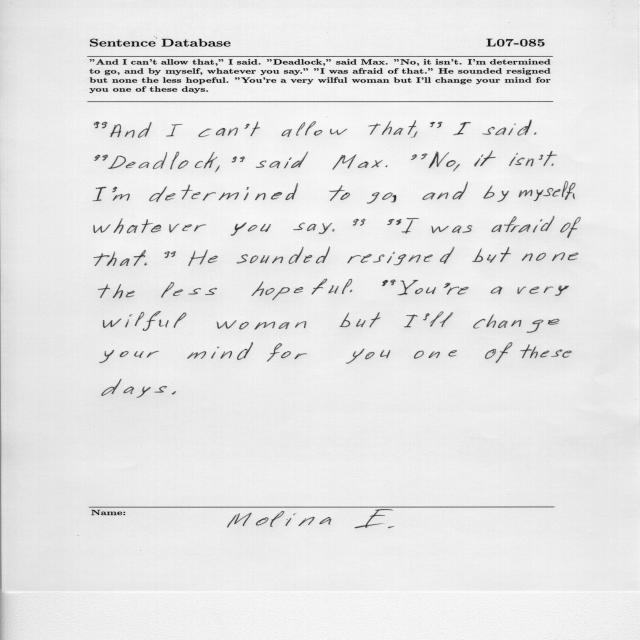word: (149, 183, 298, 202), (252, 279, 352, 300), (109, 152, 218, 170), (348, 247, 455, 265), (94, 218, 206, 234), (104, 311, 187, 331), (473, 314, 560, 333), (236, 247, 330, 264), (102, 379, 167, 398), (187, 342, 253, 360), (519, 181, 576, 201), (492, 216, 554, 233), (282, 121, 347, 137), (198, 121, 260, 137), (217, 320, 307, 330), (161, 282, 217, 298), (256, 152, 308, 169), (368, 121, 417, 138), (94, 250, 146, 266), (100, 350, 159, 363), (332, 155, 383, 170), (267, 343, 307, 362), (482, 120, 532, 135), (520, 345, 572, 359), (509, 151, 557, 166), (110, 122, 152, 138), (346, 349, 390, 364), (340, 312, 381, 328), (485, 342, 513, 363), (472, 247, 511, 262), (397, 280, 436, 295), (517, 285, 569, 296), (231, 222, 271, 236), (437, 182, 468, 200), (98, 284, 135, 298), (522, 252, 579, 261), (188, 250, 218, 266), (423, 311, 453, 327), (429, 151, 456, 168), (483, 185, 509, 202), (560, 217, 581, 238), (294, 223, 333, 234), (414, 350, 457, 359), (367, 192, 396, 204), (329, 185, 350, 201), (474, 151, 496, 166), (432, 225, 473, 233), (444, 283, 469, 295), (402, 218, 420, 234), (112, 187, 130, 201), (453, 122, 471, 135), (166, 124, 183, 137), (93, 187, 107, 201), (404, 314, 417, 328), (411, 153, 427, 160), (423, 192, 436, 200), (382, 279, 396, 286), (491, 287, 503, 295), (95, 122, 108, 129), (95, 154, 108, 161), (353, 219, 366, 226), (387, 219, 402, 225), (232, 157, 245, 163), (165, 251, 176, 258), (453, 164, 460, 171), (437, 122, 443, 128), (215, 166, 220, 173), (430, 122, 435, 127), (172, 391, 176, 395), (573, 193, 575, 200), (551, 163, 554, 166), (144, 263, 147, 266), (534, 132, 536, 135), (332, 229, 335, 231), (386, 165, 388, 167), (350, 290, 352, 292)
